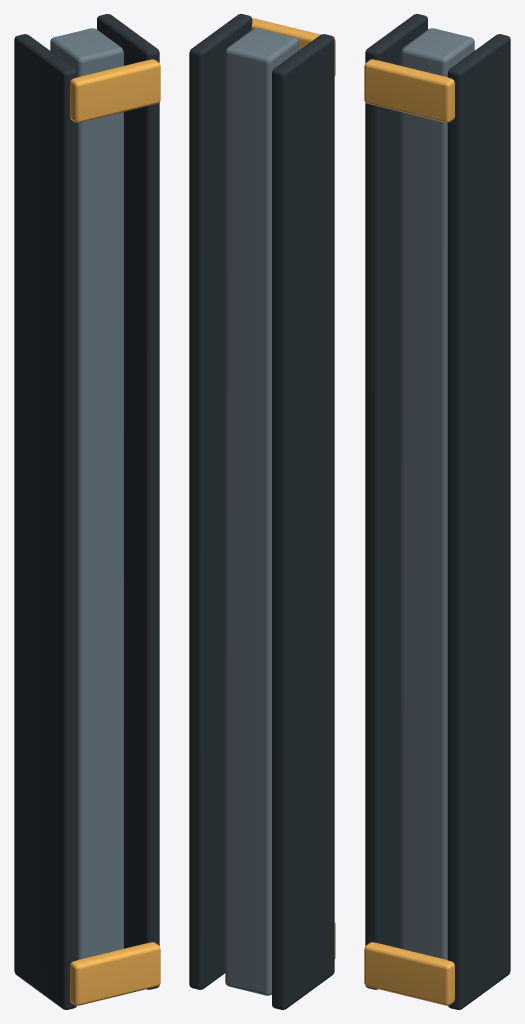
File: SM_FE_Column.fbx
3 renders of one model, left to right at view 1: azimuth 30°, elevation 25°; view 2: azimuth 150°, elevation 25°; view 3: azimuth 330°, elevation 25°, orthographic.
Visible parts, largest first — view 1: SM_FE_Column; view 2: SM_FE_Column; view 3: SM_FE_Column.
Part boxes in pixels (x1,y1,x2,y2): SM_FE_Column: (14,14,160,1009); SM_FE_Column: (189,14,335,1009); SM_FE_Column: (364,14,510,1009).
Size of the model in its own units: 54 by 56 by 500.
